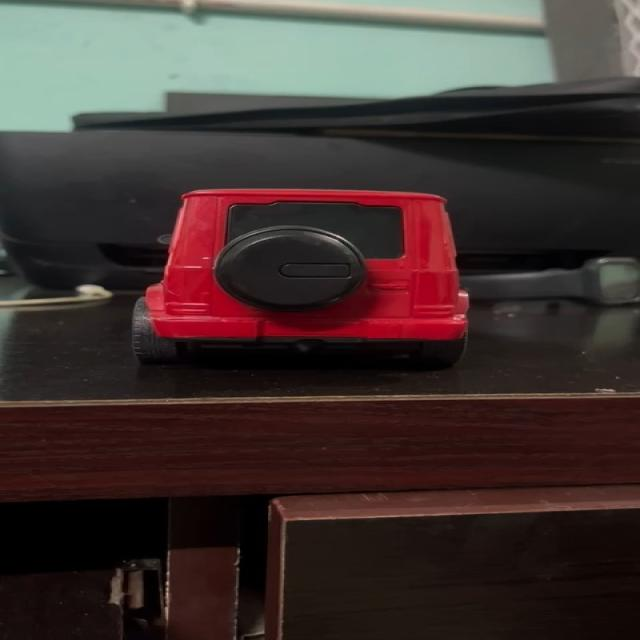light_vehicle: (116, 190, 478, 374)
